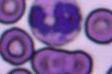N: (28, 0, 82, 46)
